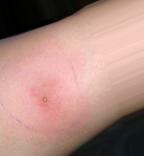Spider: (28, 85, 63, 117)
